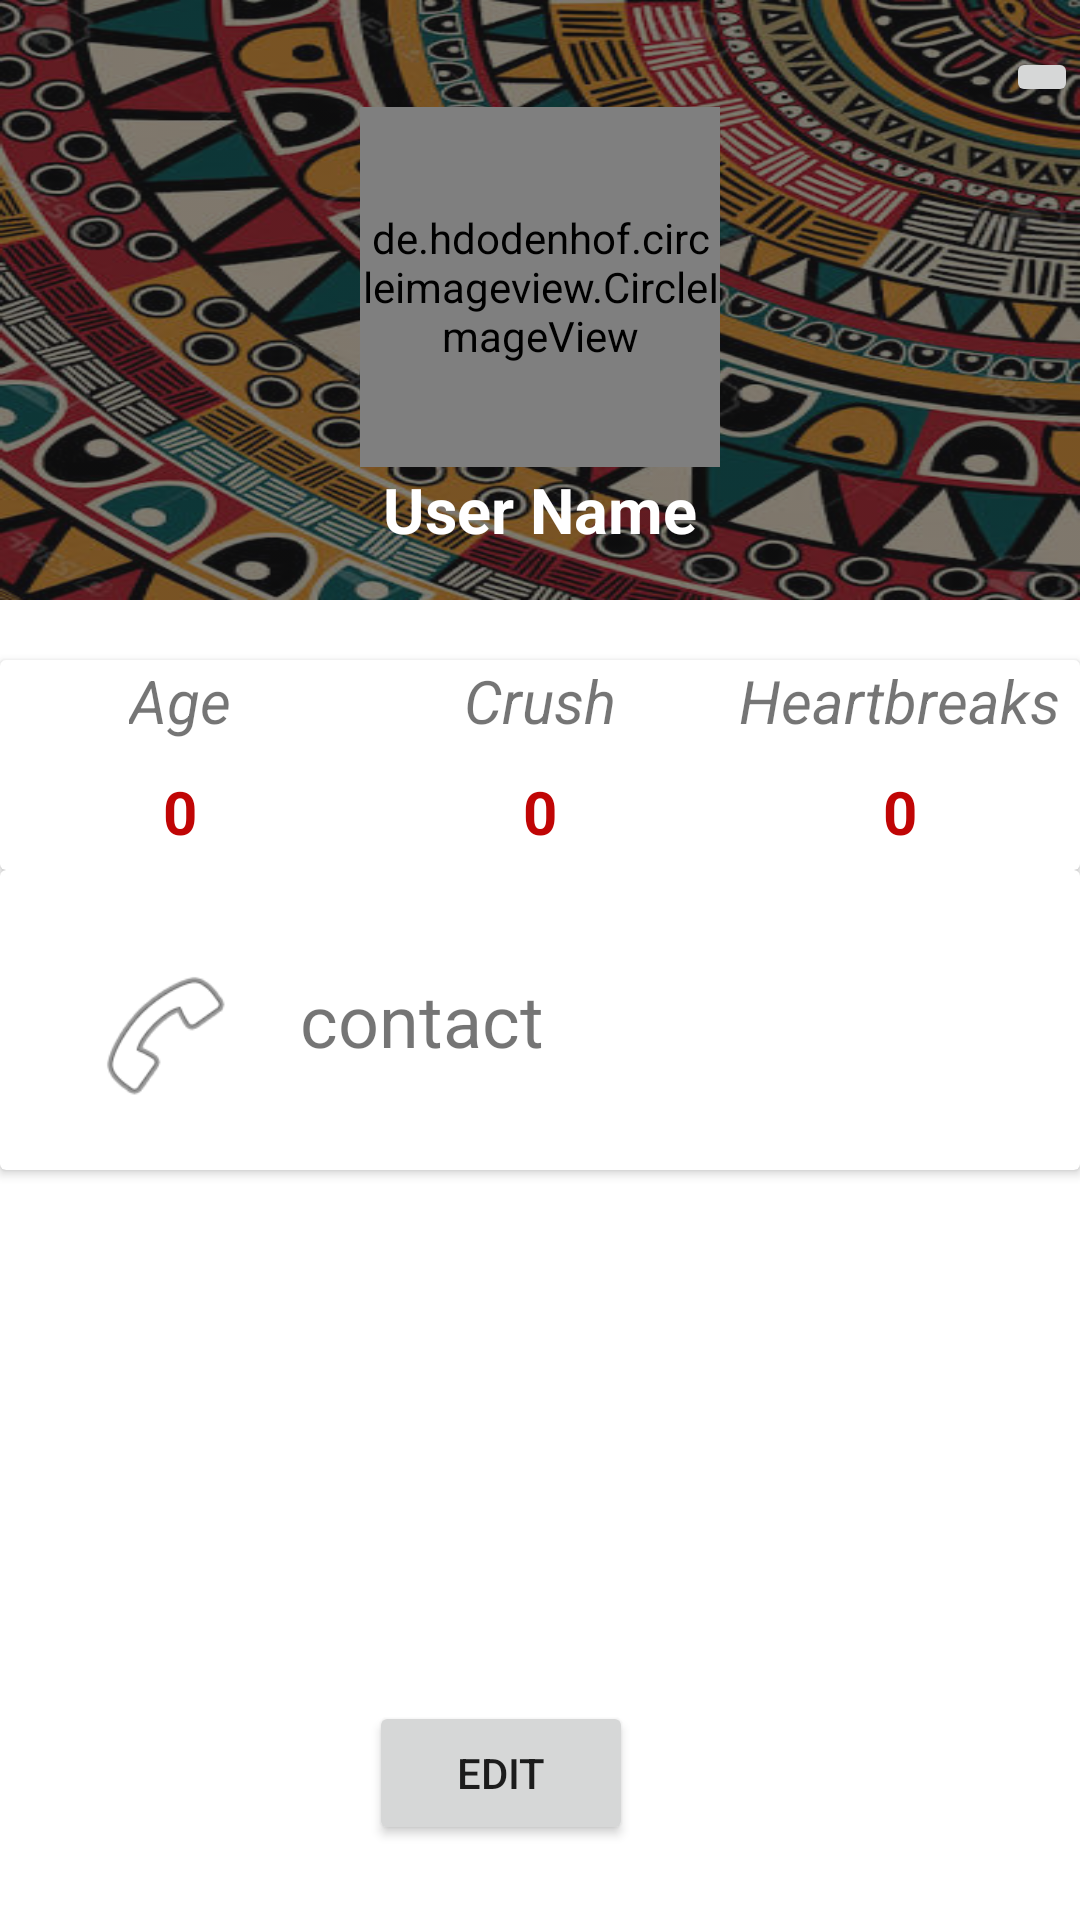

Point at icon controls on the screen. Image size 1080px×1920px, points as [x,y].
call: [166,1036]
